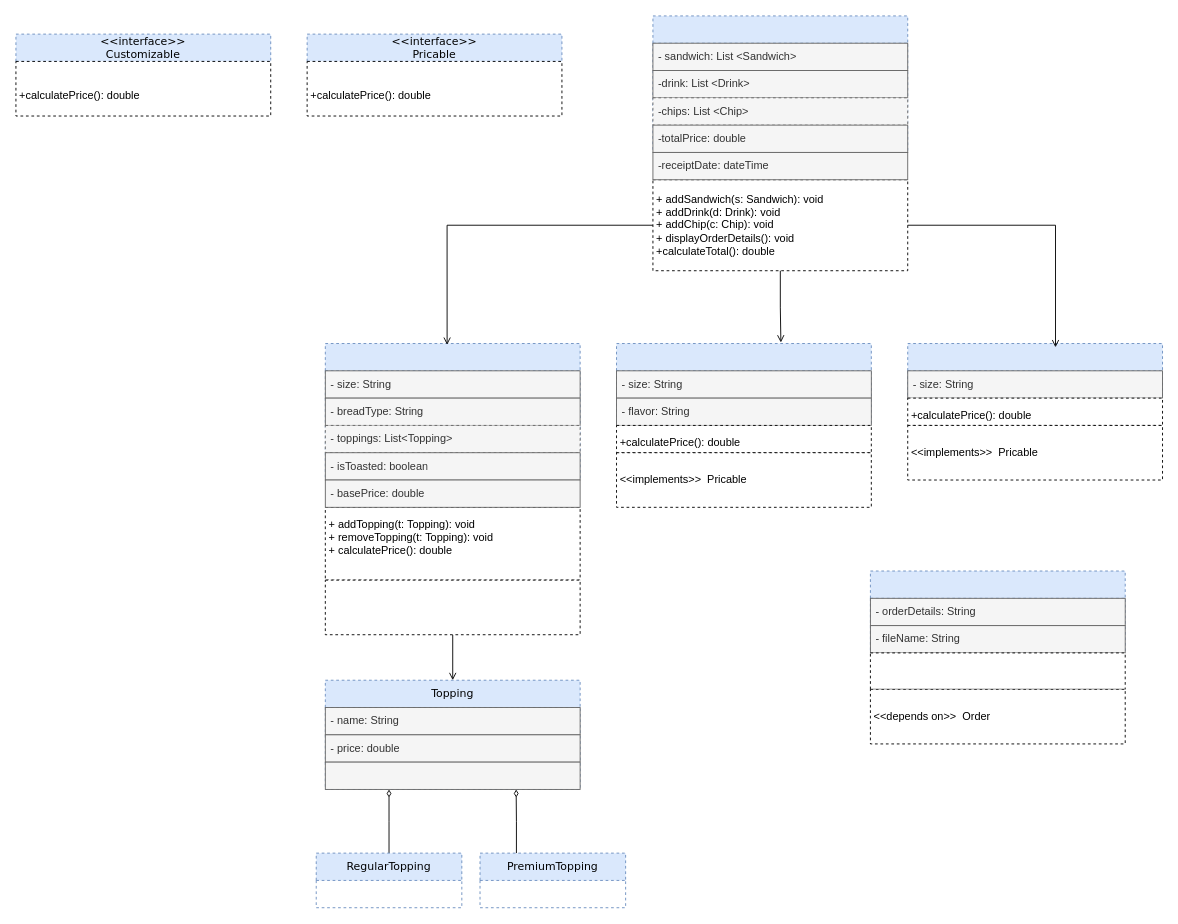
The diagram is 1178 pixels wide and 924 high, and some of its shapes have lost their labels. The shapes that lost their labels are listed below. From the top down, each one's box as (x1, y1, x2, y2) in pixels, then its label:
(652, 15, 908, 152): Order
(616, 343, 871, 425): Drink
(907, 343, 1163, 398): Chip
(324, 343, 580, 480): Sandwich
(324, 579, 580, 635): <<implements>> Customizable, Pricable
(870, 570, 1125, 653): Receipt
(870, 652, 1125, 689): + generateReceiptFile():void
(324, 761, 580, 789): - quantity: int
